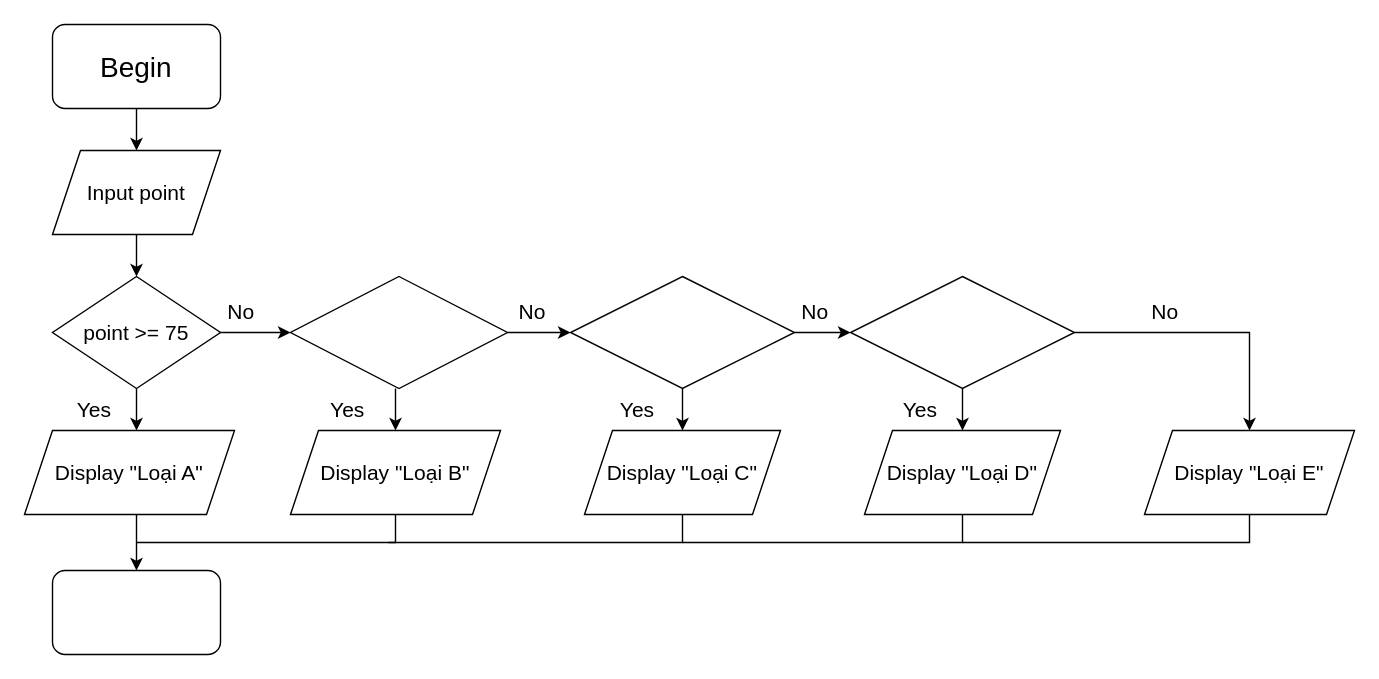
Some shapes in this 1379 by 679 pixel diagram are drawn without their labels. Here are the shapes that lost their labels. From the top down, the centre of each, then its label:
At (398,331): "point<75 and point>=60".
At (681,331): "point<60 and point>=45".
At (961,331): "point<45 and point>=35".
At (135,611): "End".
